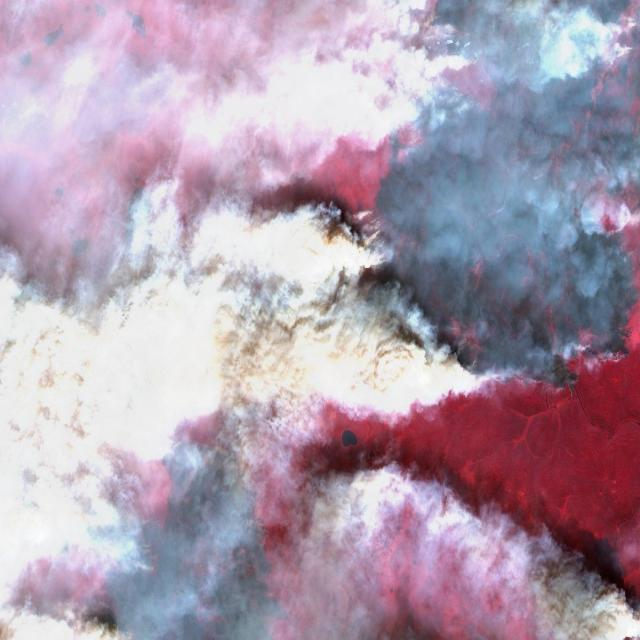fire: (470, 356, 577, 406), (562, 318, 639, 382), (354, 204, 394, 268), (608, 9, 640, 72)
